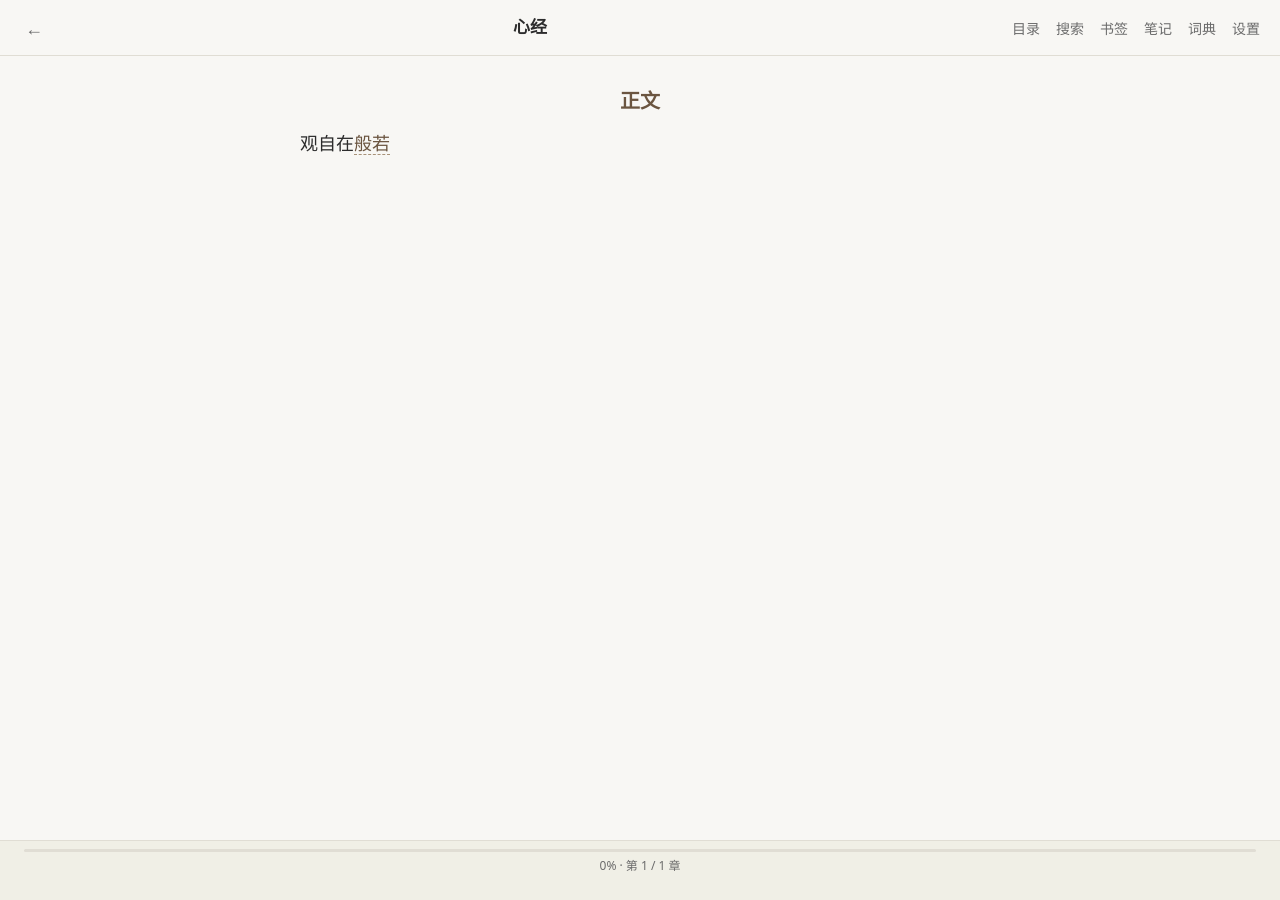
Test: ReaderView（§8.1 / §8.3 集成） › 点词查义：点击高亮词 → 打开查词弹窗并展示词条（T08）
Click the text with class "seg--term": click(372, 144) [354,134,390,155]
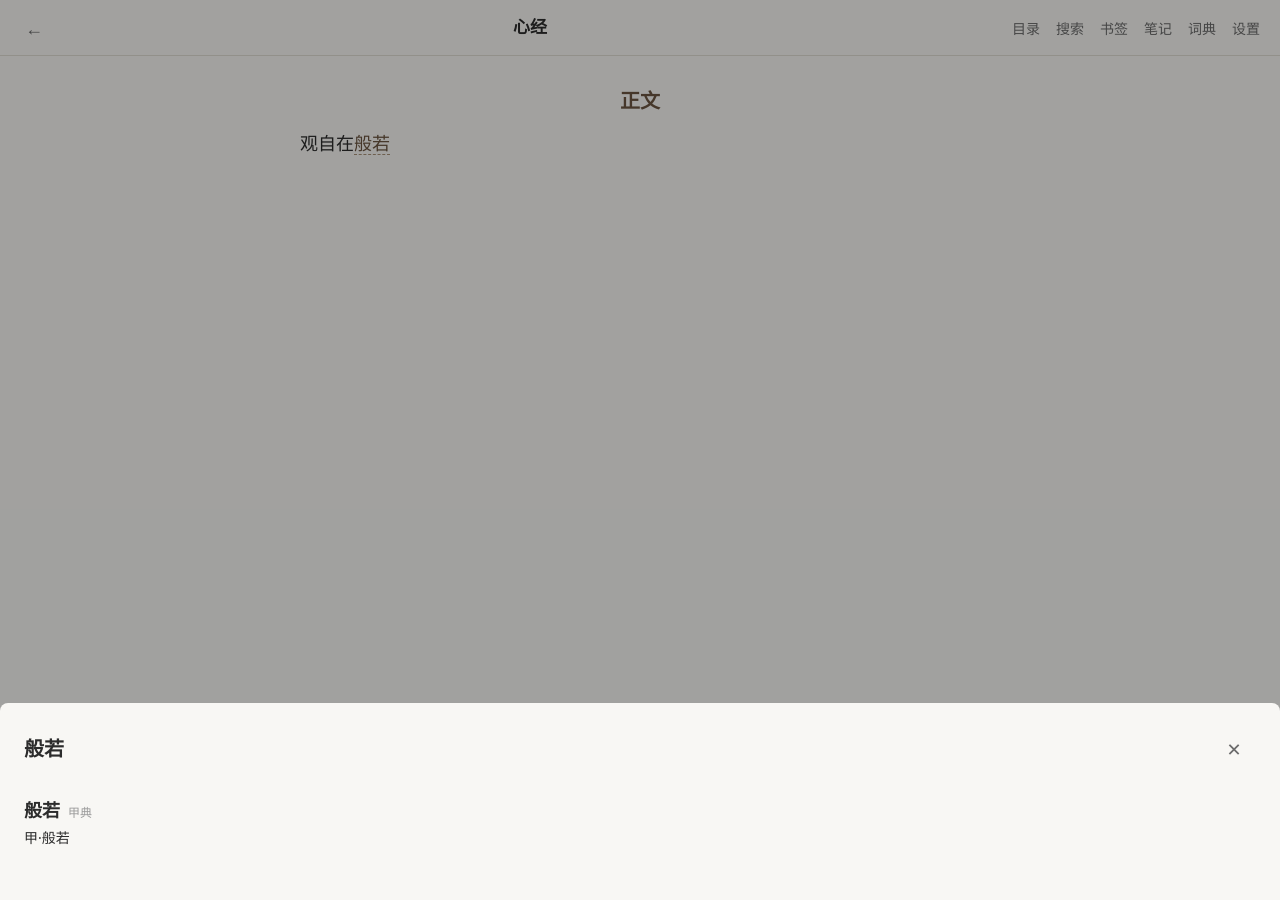
Check: the text "甲·般若" is shown, box [24,828,70,847]
